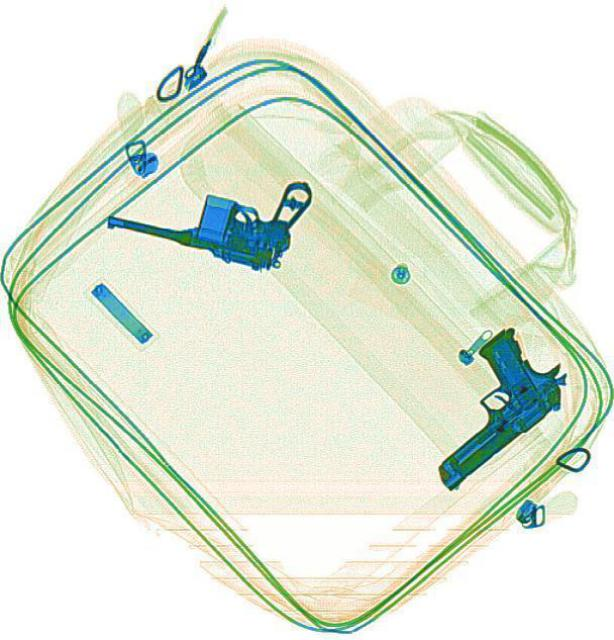Gun: (386, 316, 579, 492), (101, 138, 314, 274)
